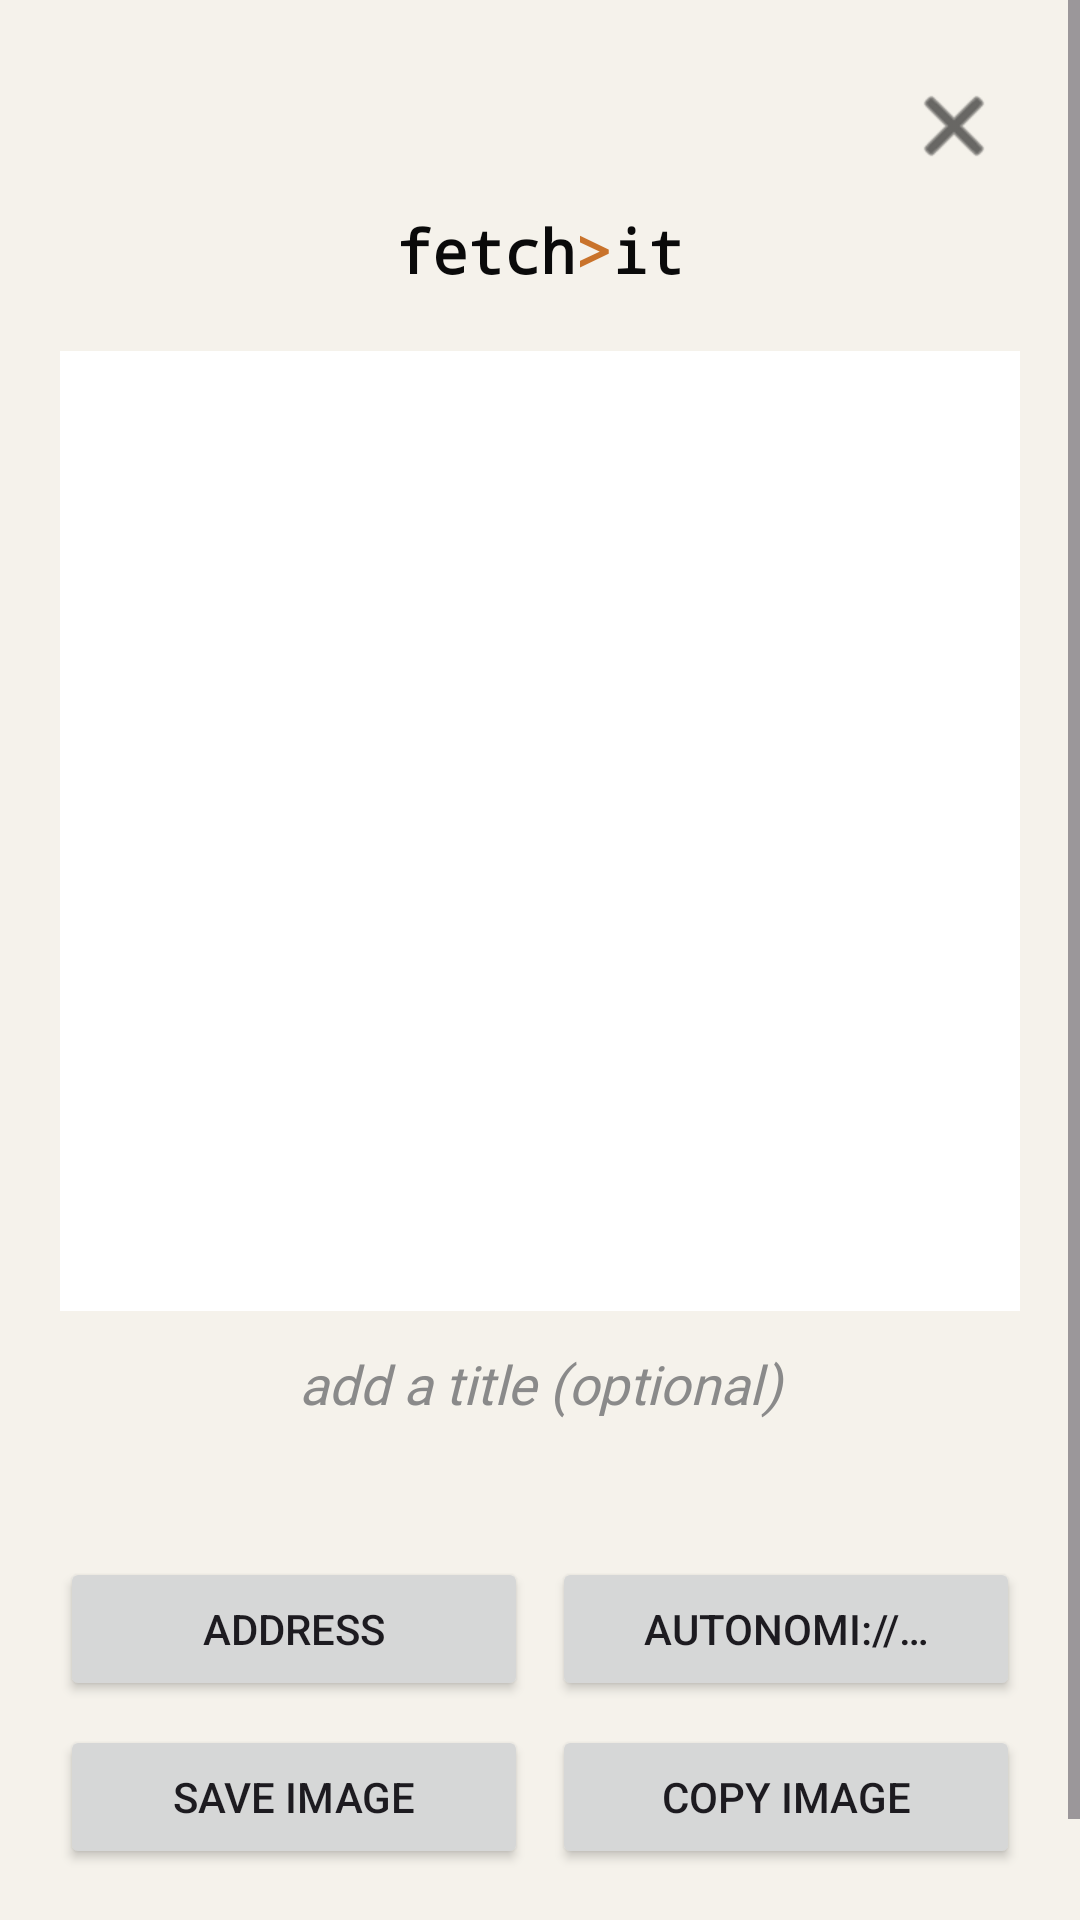

Named icons in this screenshot (1080 × 1920) and their centers, (x=x, y=y):
close: (x=954, y=126)
